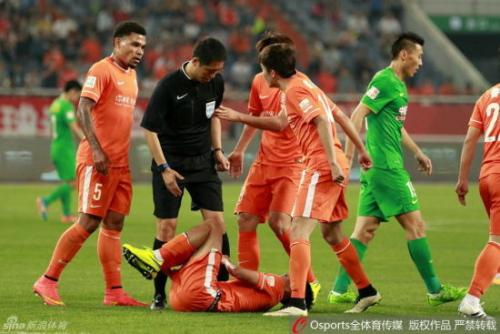10+: (1, 1, 500, 321)
down: (121, 214, 317, 315)
